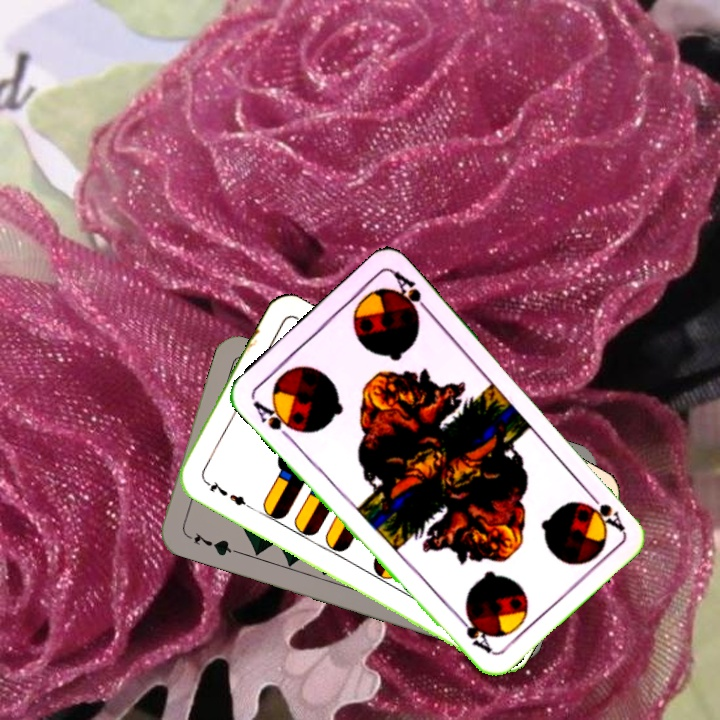E7: (198, 473, 252, 510)
G7: (182, 529, 240, 559)
SA: (248, 396, 301, 443), (582, 485, 628, 534)
